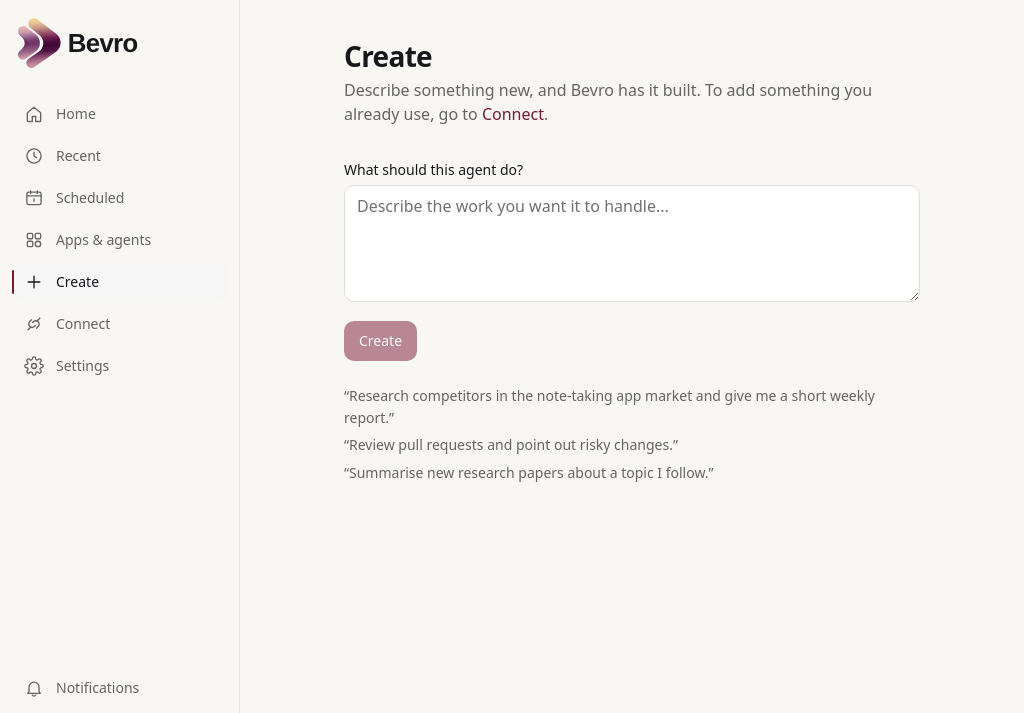
Test: create asks one question and shows a preview in plain words
Check: the text "What should this agent do?" is shown, box [344,160,523,179]
Type "Research competitors and report weekly" into the text box labelled "What should this agent do?" at (632, 244), box [344,185,920,302]
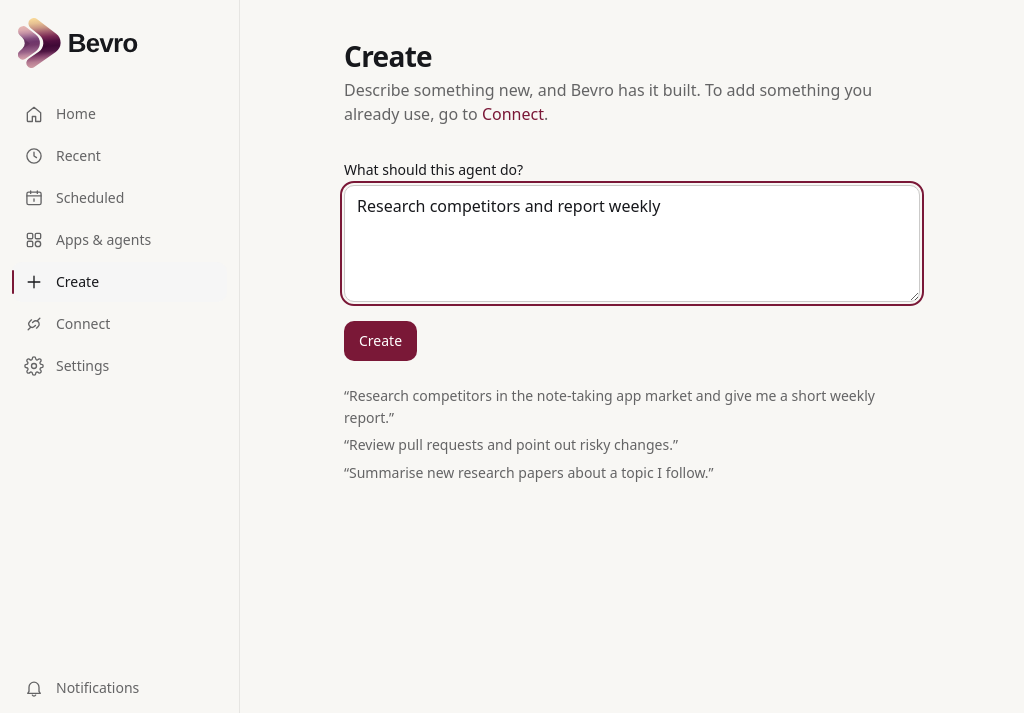
Click the button "Create" at (381, 341), box [344,321,417,361]
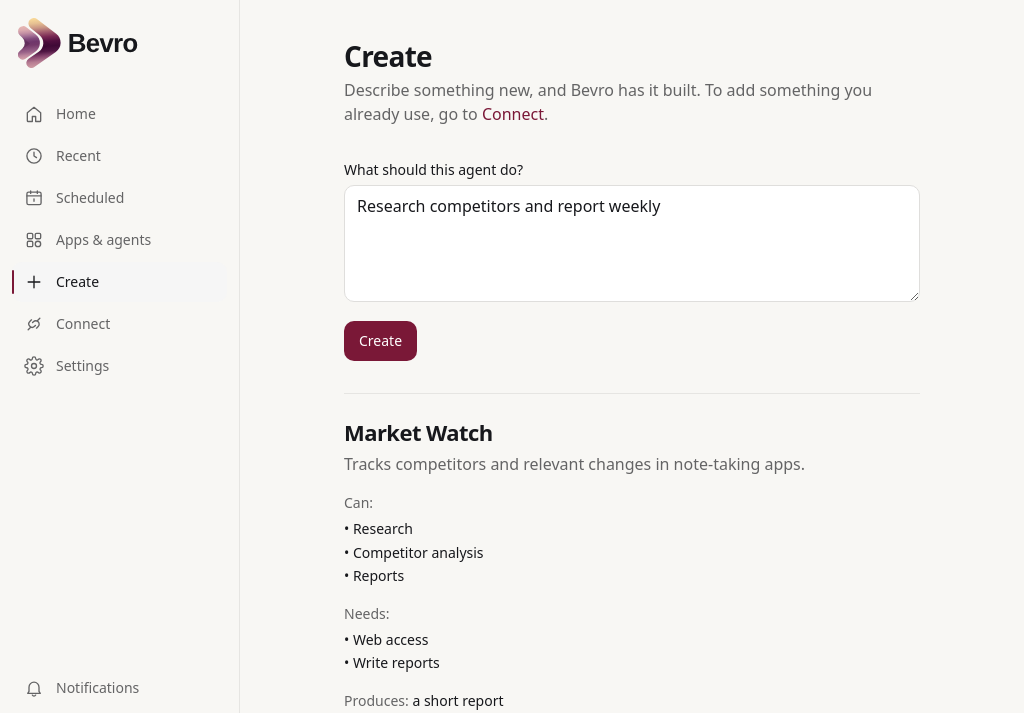
Check: the heading "Market Watch" is shown, box [344,417,493,447]
Check: the list named "Can" shows "Research", box [353,519,413,538]
Check: the list named "Needs" shows "Web access", box [353,630,428,649]
